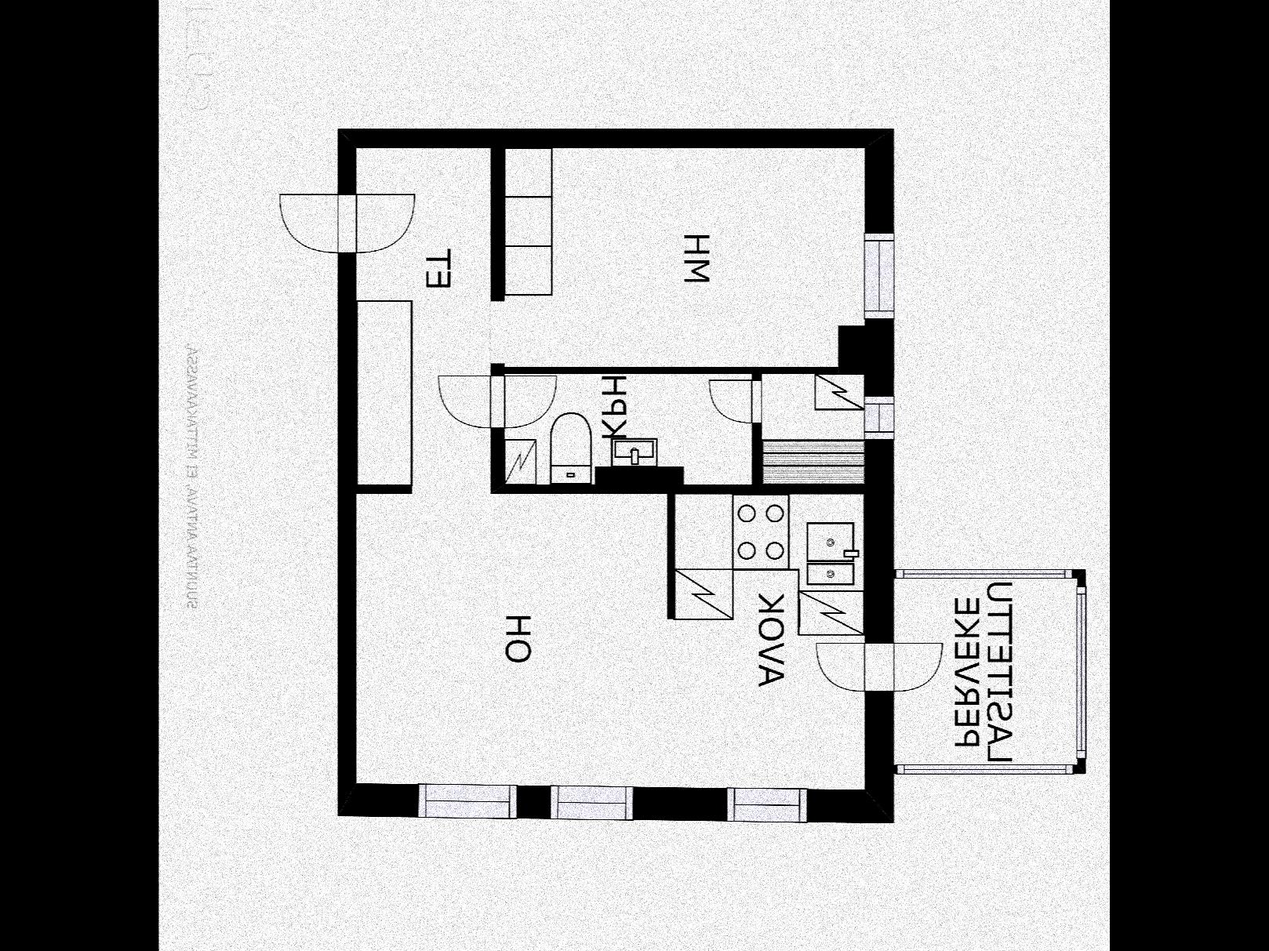door: (268, 189, 418, 260), (434, 371, 559, 432), (814, 642, 947, 696), (705, 378, 763, 424)
window: (417, 785, 517, 820), (727, 785, 808, 820), (553, 784, 633, 817), (866, 230, 894, 316), (865, 396, 898, 436)
zone: (356, 148, 866, 788), (898, 575, 1082, 762), (505, 371, 753, 483), (761, 371, 870, 486)
